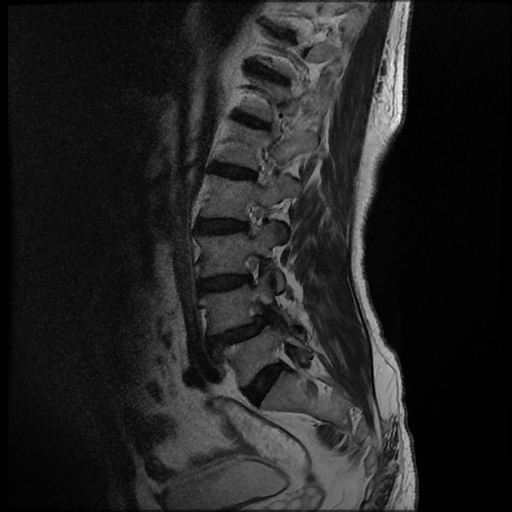RFS0: (233, 245, 273, 294)
